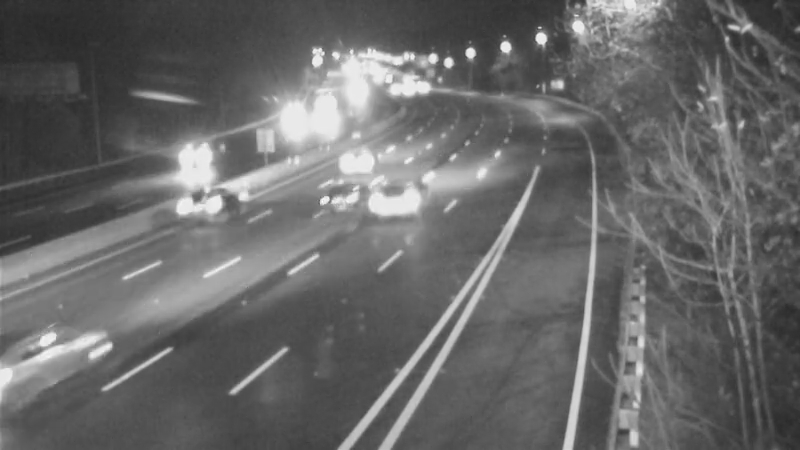vehicle: (1, 307, 95, 417), (315, 120, 395, 200), (354, 168, 434, 248), (303, 161, 383, 241), (158, 172, 238, 252), (157, 121, 237, 201), (263, 98, 313, 148), (296, 95, 346, 145)
